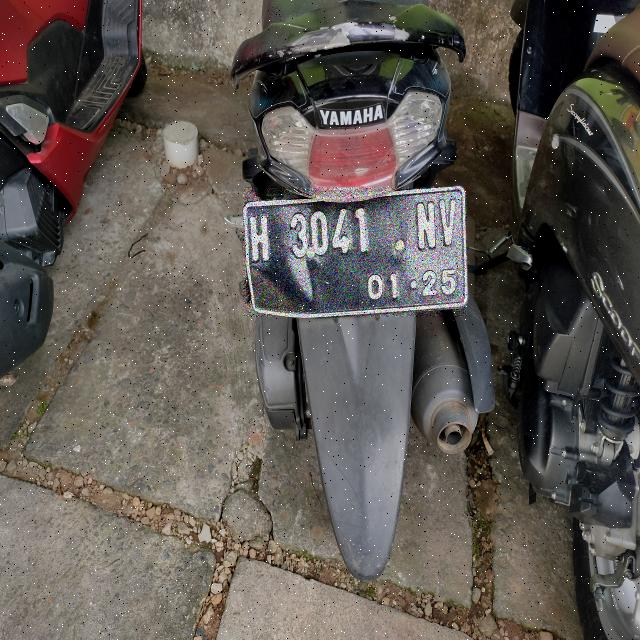plate: (244, 187, 466, 316)
